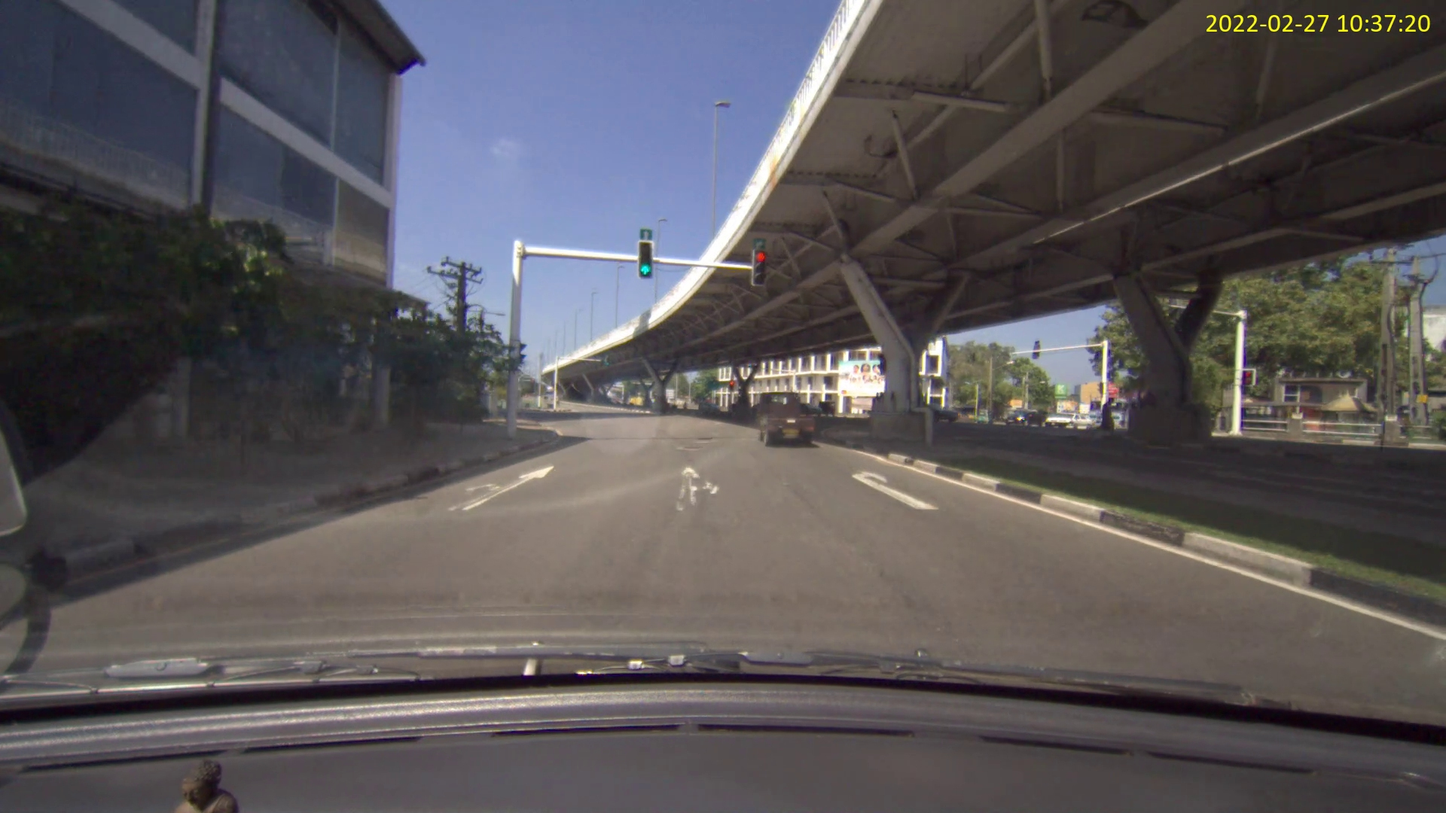red: (637, 239, 652, 279)
